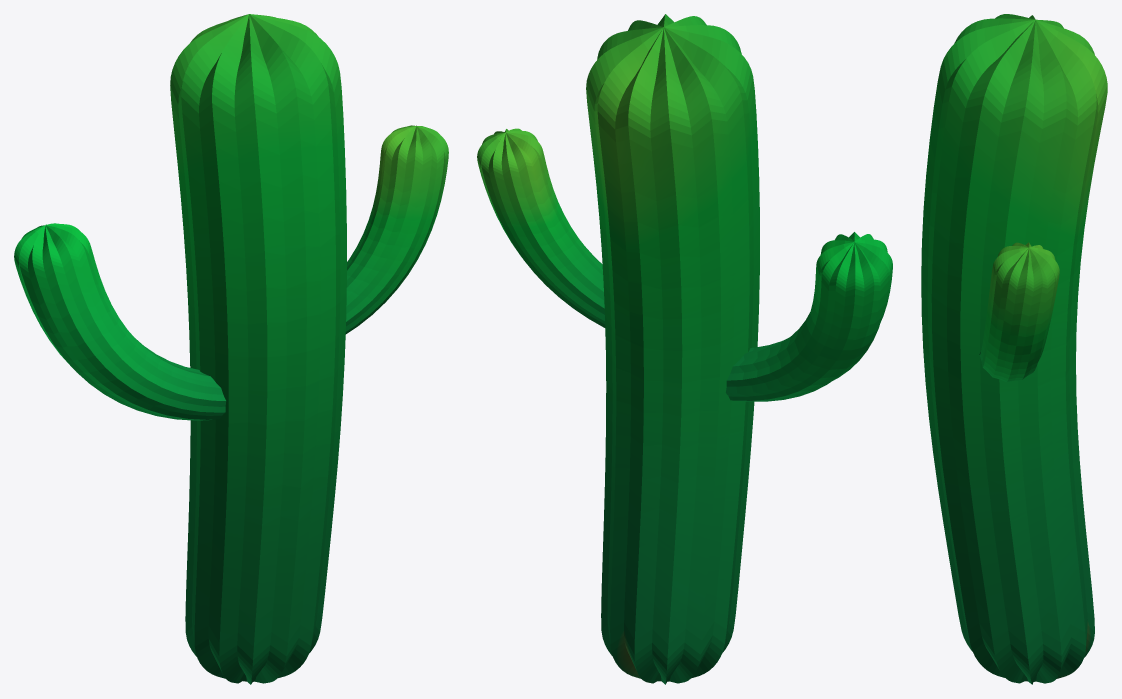
Rendered from SM_Env_Cactus_01.fbx.
3 renders of one model, left to right at view 1: azimuth 30°, elevation 25°; view 2: azimuth 150°, elevation 25°; view 3: azimuth 270°, elevation 25°, orthographic.
Visible parts, largest first — view 1: SM_Env_Cactus_01; view 2: SM_Env_Cactus_01; view 3: SM_Env_Cactus_01.
Boxes of the visible parts, x1,y1,x2,y2 form: SM_Env_Cactus_01: (14,14,448,684); SM_Env_Cactus_01: (477,14,892,684); SM_Env_Cactus_01: (921,14,1107,684).
Size of the model in its own units: 1.66 by 2.5 by 0.6443.
Materials: 1 (1 with a texture image).
